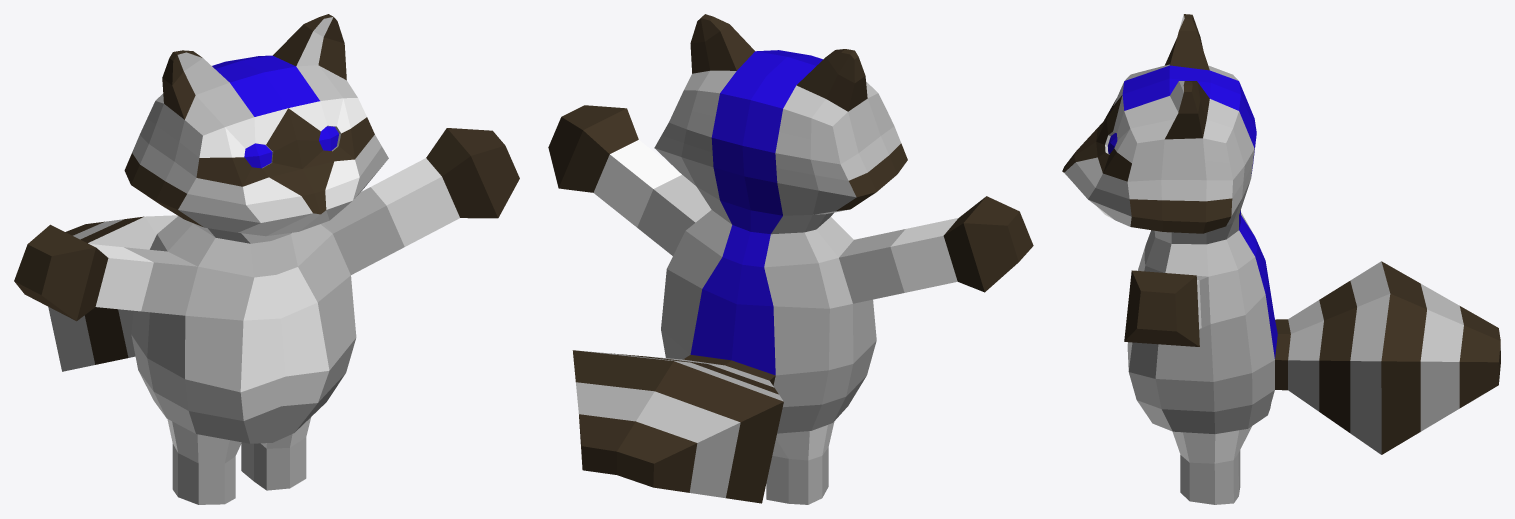
File: Raccoon.fbx
The picture shows the model from 3 angles, left to right: view 1: azimuth 30°, elevation 25°; view 2: azimuth 150°, elevation 25°; view 3: azimuth 270°, elevation 25°; orthographic projection. The views are drawn at different scales.
Parts seen in each view (by area): view 1: Cube; view 2: Cube; view 3: Cube.
Boxes of the visible parts, x1,y1,x2,y2 form: Cube: (14, 14, 519, 504); Cube: (548, 14, 1033, 504); Cube: (1062, 14, 1500, 504).
Size of the model in its own units: 595 by 536 by 495.
